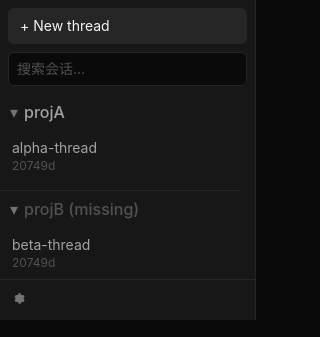
ThreadSidebar › does not open the group menu when Enter/Space bubbles from the collapse caret
The image size is (320, 337).
Press Enter in the button named "Collapse", box [8,100,20,124]
Press Space in the button named "Collapse", box [8,100,20,124]
Click the button named "Collapse" at point(14, 112), box [8,100,20,124]
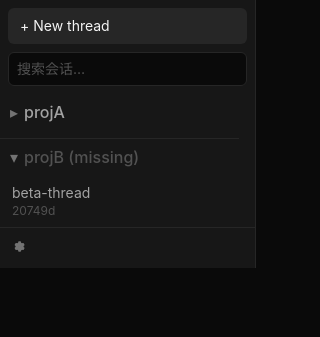
Now the text "alpha-thread" is gone
